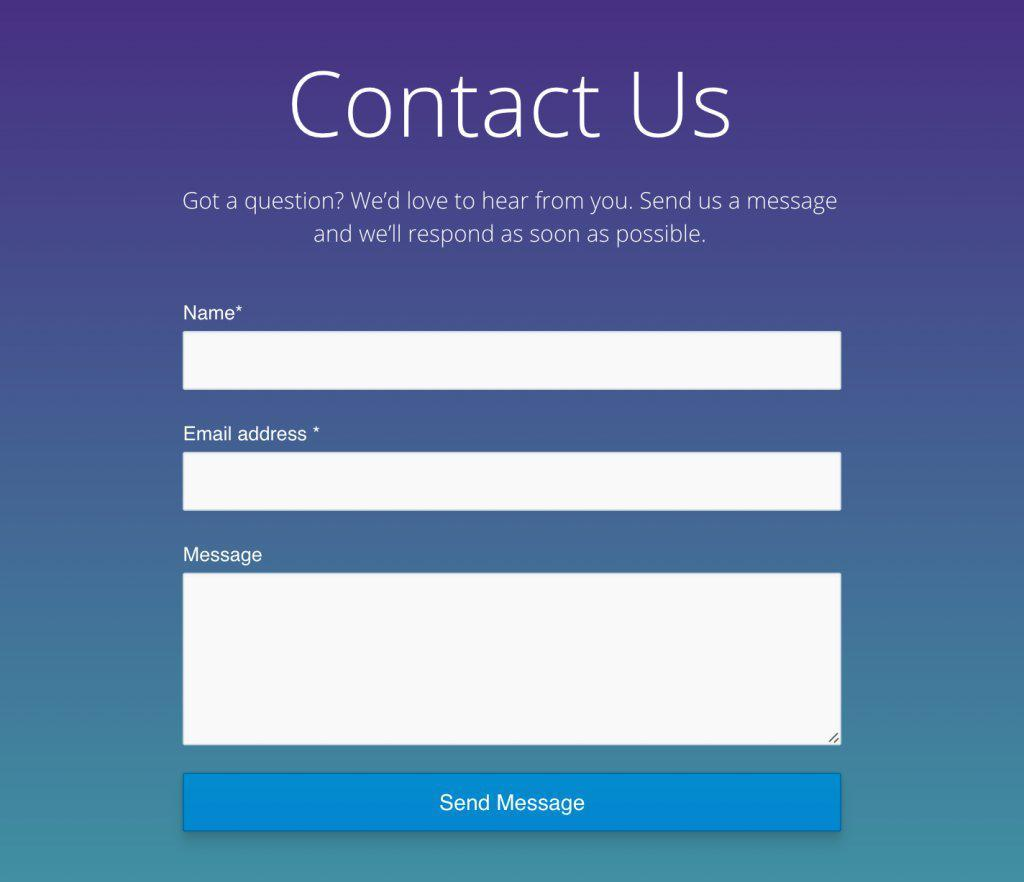button: (184, 777, 842, 835)
input: (185, 576, 842, 744), (183, 331, 844, 394), (185, 452, 842, 513)
label: (180, 423, 324, 448), (181, 546, 268, 567), (181, 297, 243, 326)
